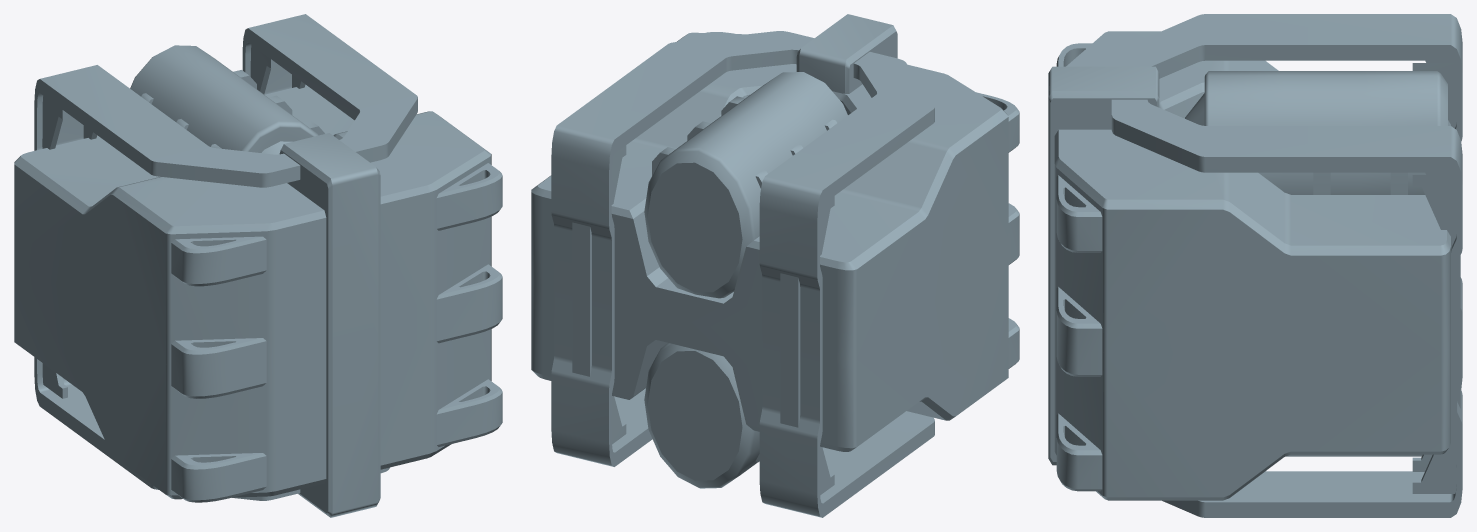
The model's file is cargo.glb.
3 renders of one model, left to right at view 1: azimuth 30°, elevation 25°; view 2: azimuth 150°, elevation 25°; view 3: azimuth 270°, elevation 25°, orthographic. The views are drawn at different scales.
Parts seen in each view (by area): view 1: cargo; view 2: cargo; view 3: cargo.
Part boxes in pixels (x1,y1,x2,y2): cargo: [14, 14, 502, 517]; cargo: [531, 14, 1019, 517]; cargo: [1048, 14, 1462, 517].
Size of the model in its own units: 1 by 1 by 1.
